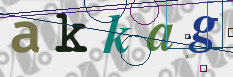a: (10, 21, 39, 53), (146, 23, 172, 51)
g: (188, 16, 218, 53)
k: (55, 12, 86, 52), (102, 15, 130, 53)
